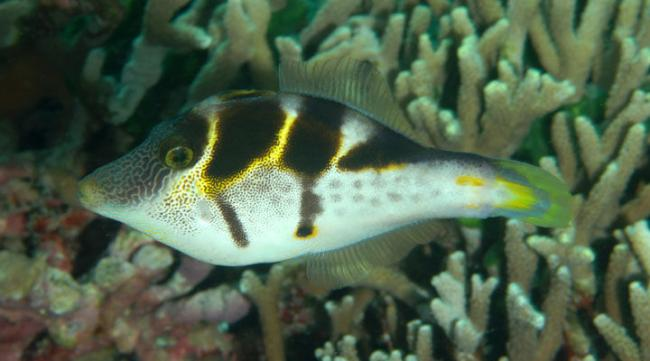fish: (78, 57, 573, 287)
